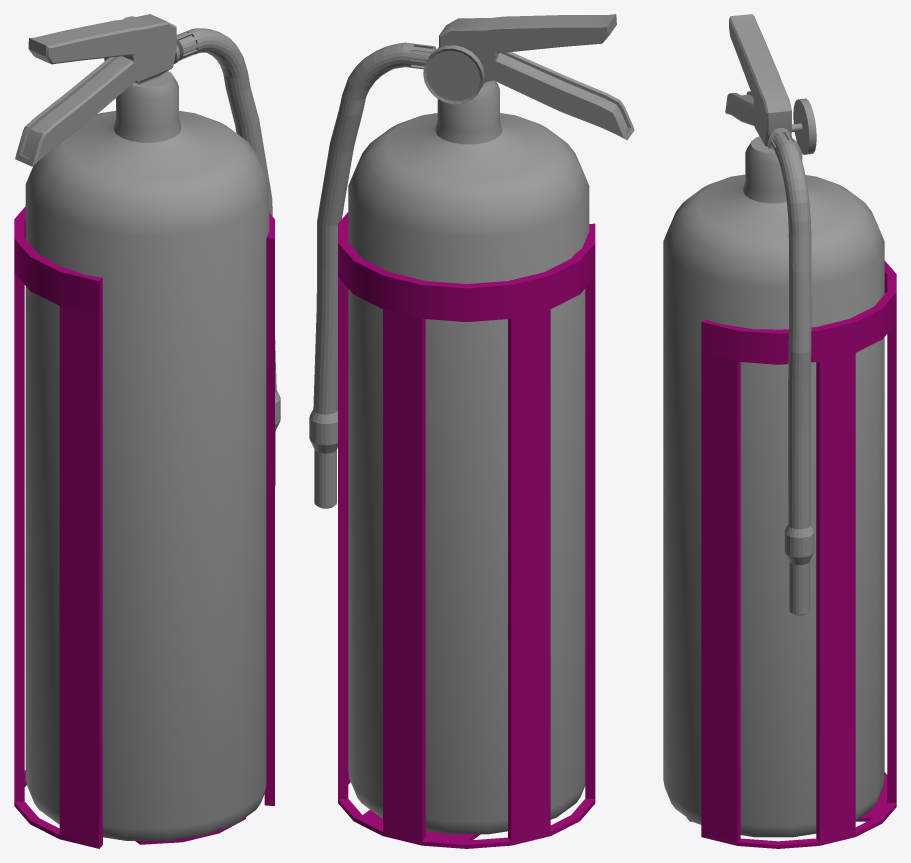
Rendered from RUNWILD.FBX.
The picture shows the model from 3 angles, left to right: view 1: azimuth 30°, elevation 25°; view 2: azimuth 150°, elevation 25°; view 3: azimuth 270°, elevation 25°; orthographic projection. The views are drawn at different scales.
Visible parts, largest first — view 1: Fles, Holder, Handle, Slang; view 2: Fles, Holder, Handle, Slang; view 3: Fles, Holder, Slang, Handle.
Part boxes in pixels (x1,y1,x2,y2): Fles: (25,71,269,840); Holder: (14,206,274,848); Handle: (15,14,176,166); Slang: (173,28,280,485); Fles: (348,80,589,834); Holder: (338,212,595,848); Handle: (423,14,634,140); Slang: (309,42,438,508); Fles: (663,136,884,837); Holder: (686,261,896,848); Slang: (767,128,814,615); Handle: (725,14,816,154).
Size of the model in its own units: 0.2947 by 0.7731 by 0.225.
